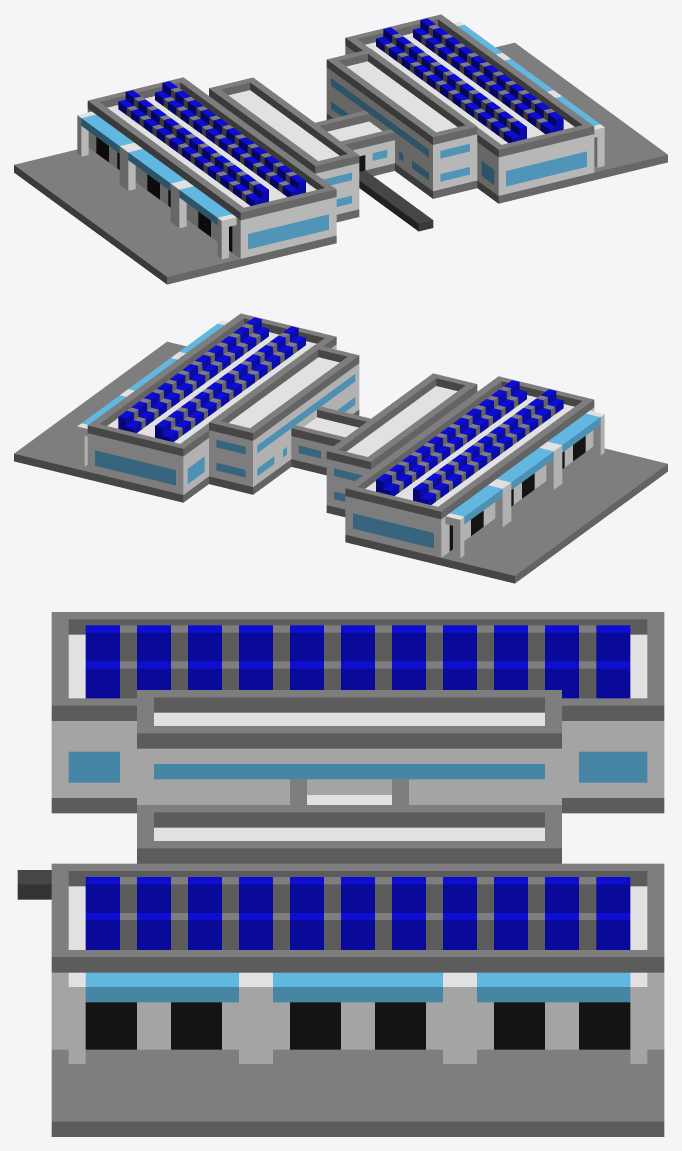
The model's file is hight-tech-fabric.obj.
3 renders of one model, top to bottom at view 1: azimuth 30°, elevation 25°; view 2: azimuth 150°, elevation 25°; view 3: azimuth 270°, elevation 25°, orthographic. The views are drawn at different scales.
Visible parts, largest first — view 1: hight-tech-fabric; view 2: hight-tech-fabric; view 3: hight-tech-fabric.
Part boxes in pixels (bbox=[...]): hight-tech-fabric: bbox=[14, 14, 667, 284]; hight-tech-fabric: bbox=[14, 313, 667, 583]; hight-tech-fabric: bbox=[17, 612, 664, 1136].
Bounding box in the file's own units: 68 × 8 × 38.
